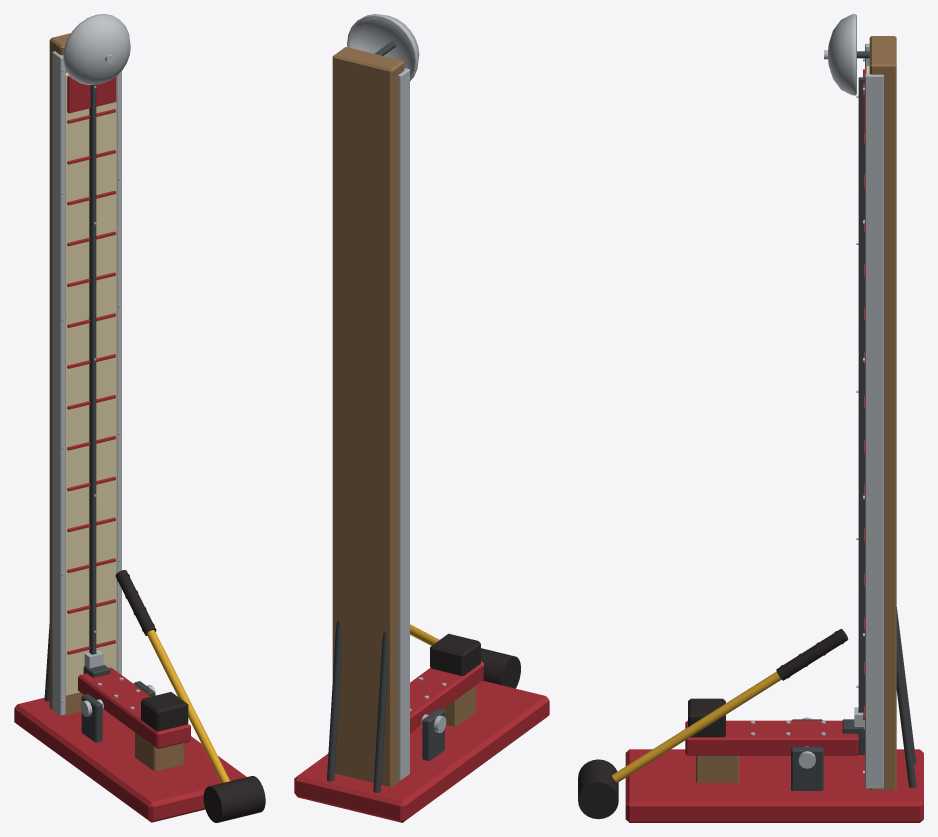
3 renders of one model, left to right at view 1: azimuth 30°, elevation 25°; view 2: azimuth 150°, elevation 25°; view 3: azimuth 270°, elevation 25°, orthographic. The views are drawn at different scales.
Visible parts, largest first — view 1: Pale vertical score face, Grounded long game base, Metal score edge rail -1, Central raised slider guide, Convex round top bell shell, Metal score edge rail 1, Tall closed structural score post, Long static strike lever, Grounded companion mallet head, Mallet painted handle, Upper black striking pad, Top target color field (+3 smaller); view 2: Tall closed structural score post, Grounded long game base, Metal score edge rail -1, Convex round top bell shell, Long static strike lever, Upper black striking pad, Generic rear post brace 1, Generic rear post brace -1, Grounded companion mallet head, Lever pivot bracket -1, Grounded lever support block; view 3: Grounded long game base, Metal score edge rail 1, Tall closed structural score post, Long static strike lever, Central raised slider guide, Grounded companion mallet head, Mallet painted handle, Convex round top bell shell, Grounded lever support block, Lever pivot bracket 1, Generic rear post brace 1, Upper black striking pad (+1 smaller).
Part boxes in pixels (x1,y1,x2,y2): Pale vertical score face: [65, 72, 116, 695]; Grounded long game base: [14, 697, 246, 822]; Metal score edge rail -1: [52, 51, 65, 715]; Central raised slider guide: [89, 84, 96, 654]; Convex round top bell shell: [63, 14, 130, 85]; Metal score edge rail 1: [116, 71, 121, 674]; Tall closed structural score post: [49, 33, 83, 715]; Long static strike lever: [78, 667, 190, 748]; Grounded companion mallet head: [203, 776, 265, 822]; Mallet painted handle: [146, 630, 229, 783]; Upper black striking pad: [141, 692, 188, 731]; Top target color field: [67, 76, 116, 113]; Tall closed structural score post: [332, 47, 404, 786]; Grounded long game base: [294, 680, 549, 822]; Metal score edge rail -1: [398, 68, 409, 780]; Convex round top bell shell: [347, 14, 419, 80]; Long static strike lever: [410, 662, 483, 733]; Upper black striking pad: [430, 633, 480, 675]; Generic rear post brace 1: [327, 619, 341, 781]; Generic rear post brace -1: [373, 631, 387, 792]; Grounded companion mallet head: [481, 648, 520, 688]; Lever pivot bracket -1: [422, 708, 444, 760]; Grounded lever support block: [443, 685, 476, 726]; Grounded long game base: [625, 749, 923, 822]; Metal score edge rail 1: [865, 73, 883, 788]; Tall closed structural score post: [869, 36, 896, 789]; Long static strike lever: [685, 720, 858, 755]; Central raised slider guide: [858, 77, 864, 754]; Grounded companion mallet head: [578, 759, 618, 819]; Mallet painted handle: [612, 671, 781, 782]; Convex round top bell shell: [828, 14, 856, 95]; Grounded lever support block: [696, 755, 739, 782]; Lever pivot bracket 1: [791, 747, 823, 790]; Generic rear post brace 1: [896, 630, 916, 787]; Upper black striking pad: [688, 698, 725, 737].
Size of the model in its own units: 0.48 by 3.17 by 1.28.
